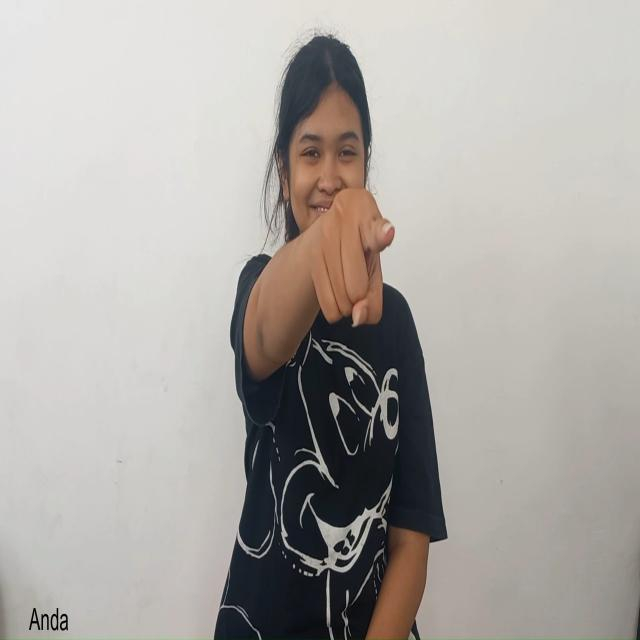Anda -BISINDO-: (278, 184, 425, 396)
